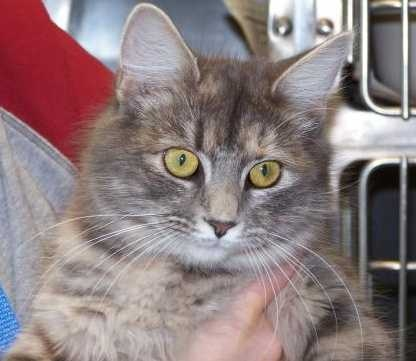Cat: (53, 3, 358, 298)
